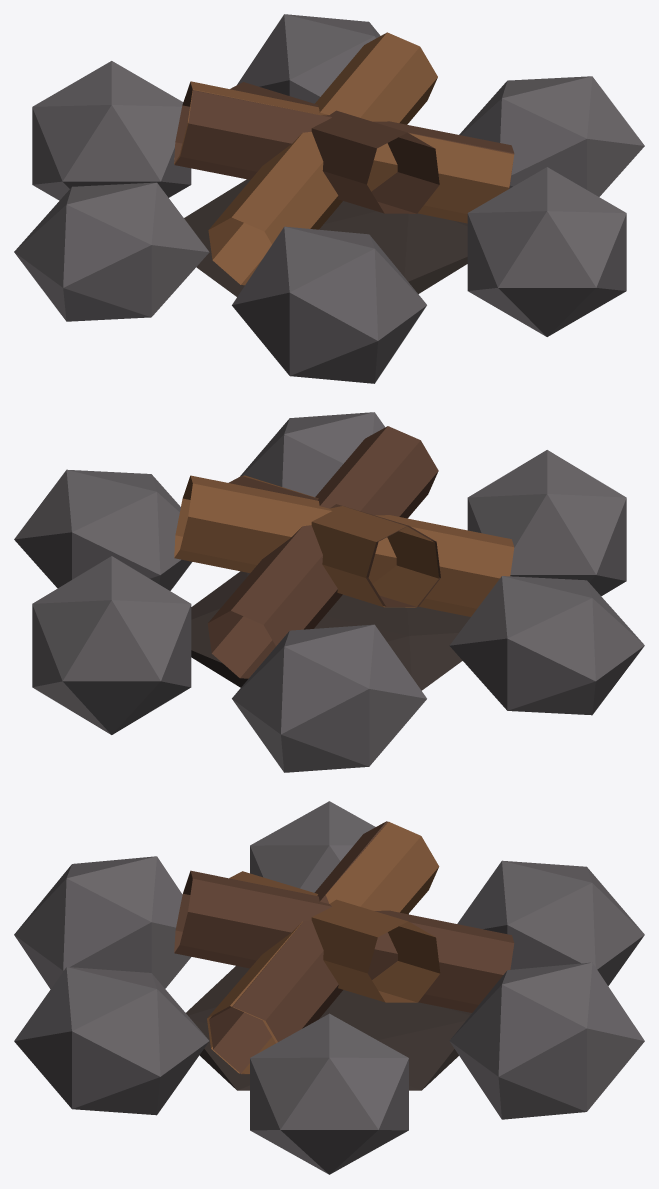
3 renders of one model, top to bottom at view 1: azimuth 30°, elevation 25°; view 2: azimuth 150°, elevation 25°; view 3: azimuth 270°, elevation 25°, orthographic.
Visible parts, largest first — view 1: C10_六石小火塘; view 2: C10_六石小火塘; view 3: C10_六石小火塘.
Part boxes in pixels (x1,y1,x2,y2): C10_六石小火塘: [14, 14, 644, 383]; C10_六石小火塘: [14, 412, 644, 772]; C10_六石小火塘: [14, 801, 644, 1174].
Bounding box in the file's own units: 1.15 × 0.3429 × 1.08.
